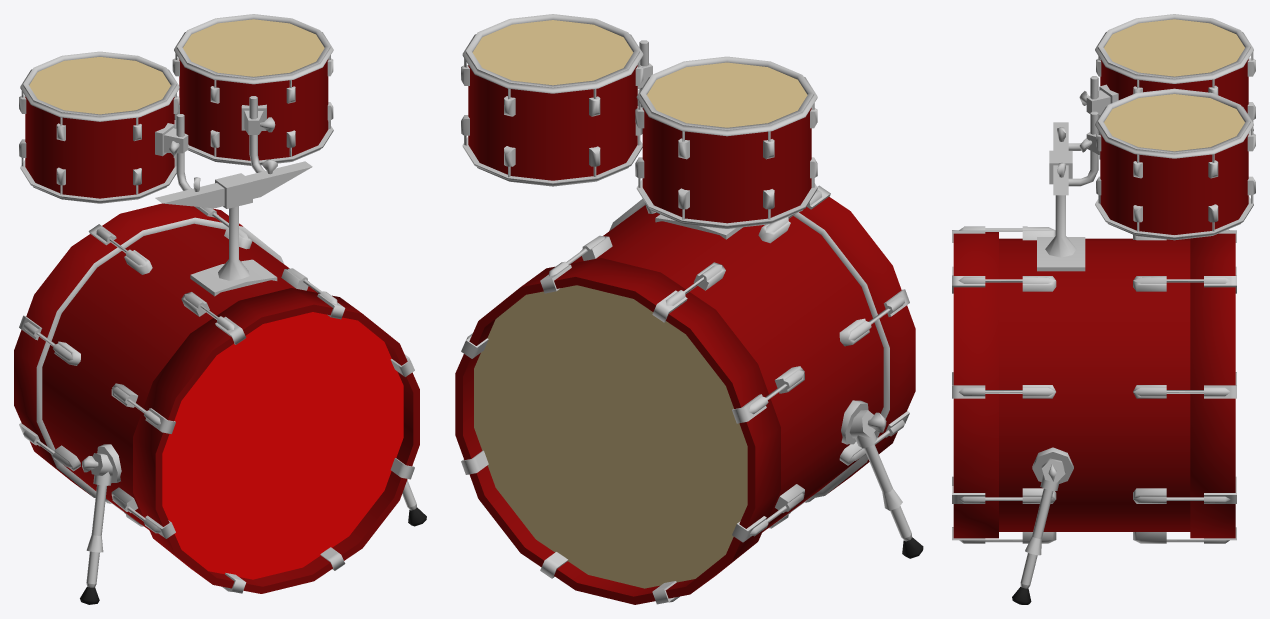
Rendered from RockSceneKickDrum.fbx.
3 views of the same model, side by side, from view 1: azimuth 30°, elevation 25°; view 2: azimuth 150°, elevation 25°; view 3: azimuth 270°, elevation 25° (orthographic). The views are drawn at different scales.
Parts seen in each view (by area): view 1: KickDrum_Drum, KickDrum_SmallTom, KickDrum_Rotarty, KickDrum_Arm, KickDrum_Legs, Torus, KickDrum_SmallTomRotarty; view 2: KickDrum_Drum, KickDrum_SmallTom, KickDrum_Rotarty, KickDrum_SmallTomRotarty, KickDrum_Legs; view 3: KickDrum_Drum, KickDrum_SmallTom, KickDrum_Rotarty, KickDrum_Arm, KickDrum_Legs, Torus, KickDrum_SmallTomRotarty.
Part boxes in pixels (x1,y1,x2,y2): KickDrum_Drum: (14,203,419,593); KickDrum_SmallTom: (20,14,333,203); KickDrum_Rotarty: (19,206,414,593); KickDrum_Arm: (155,161,312,296); KickDrum_Legs: (80,444,426,604); Torus: (155,96,277,191); KickDrum_SmallTomRotarty: (19,53,333,194); KickDrum_Drum: (455,197,915,604); KickDrum_SmallTom: (462,14,817,228); KickDrum_Rotarty: (461,185,909,604); KickDrum_SmallTomRotarty: (461,58,817,219); KickDrum_Legs: (841,400,923,558); KickDrum_Drum: (953,232,1235,538); KickDrum_SmallTom: (1095,14,1253,240); KickDrum_Rotarty: (952,226,1236,543); KickDrum_Arm: (1037,122,1085,271); KickDrum_Legs: (1012,447,1073,604); Torus: (1057,76,1118,186); KickDrum_SmallTomRotarty: (1096,52,1255,231).
Size of the model in its own units: 608 by 752 by 469.
